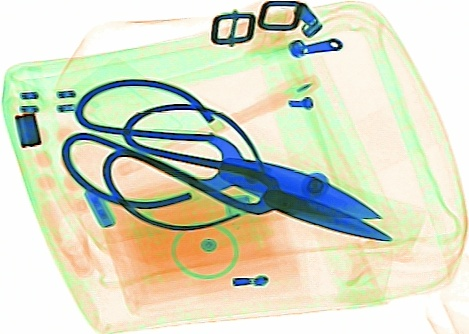scissors: (61, 77, 382, 244), (101, 102, 393, 243)
